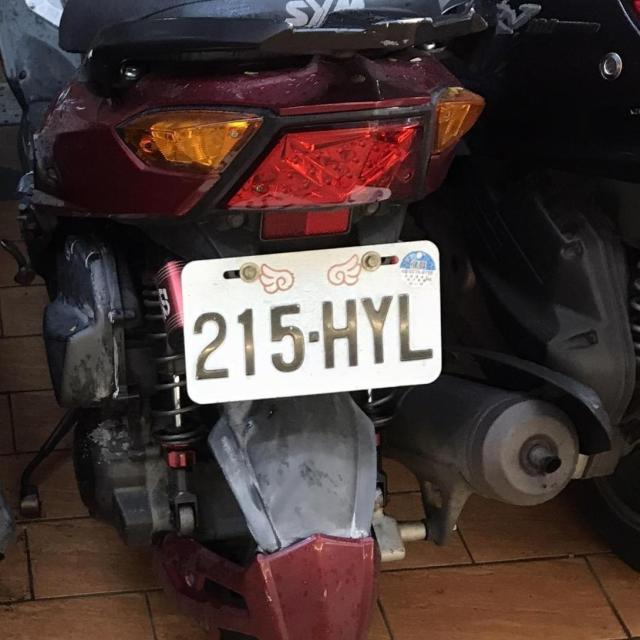W: (175, 236, 454, 410)
